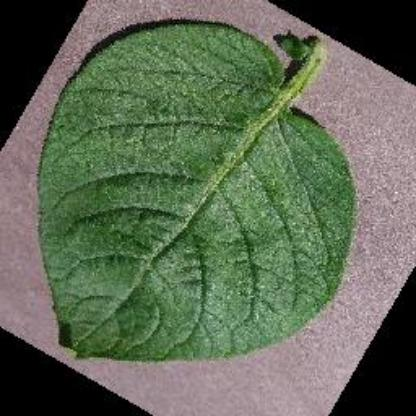Healthy-plant: (19, 9, 387, 381)
